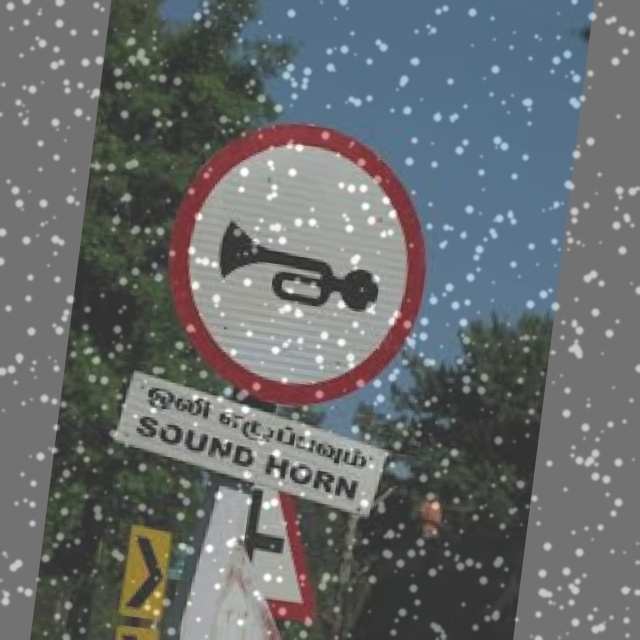Compulsory_Sound_Horn: (158, 111, 441, 410)
